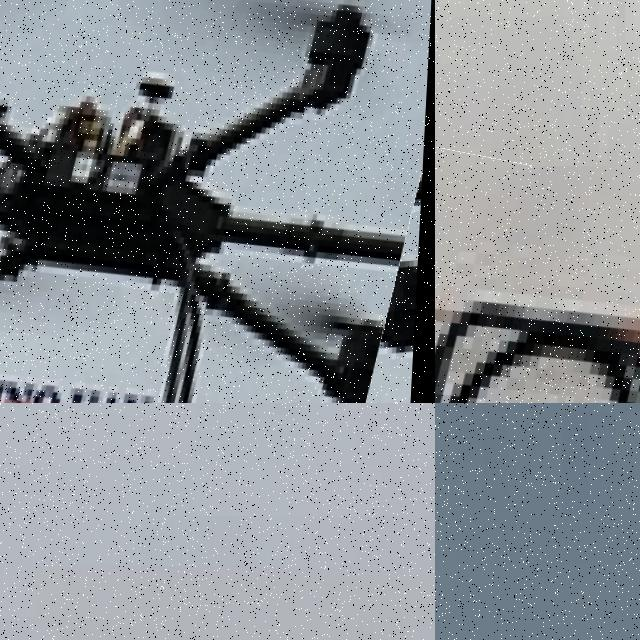drone: (0, 0, 435, 403), (435, 166, 640, 403)
